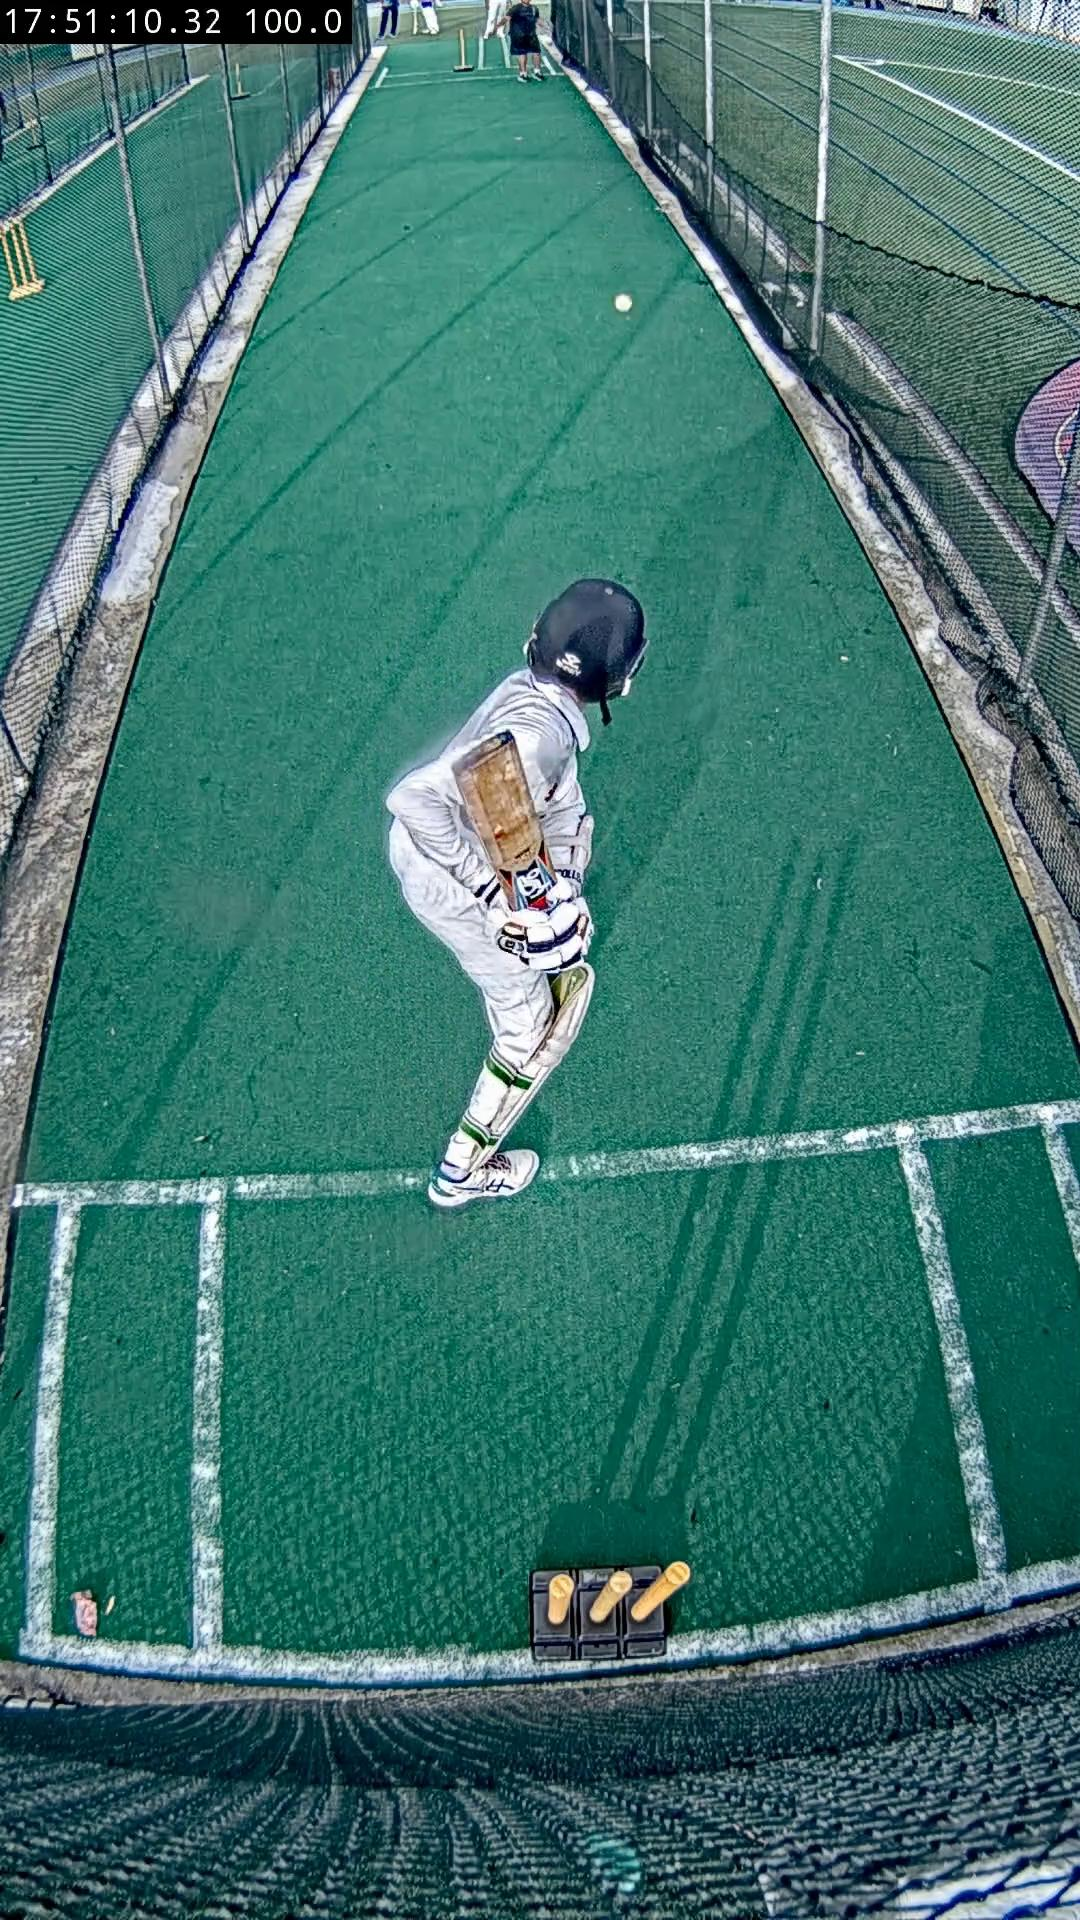ball: (615, 293, 634, 313)
bat: (454, 732, 555, 911)
gloves: (488, 893, 592, 972)
helmet: (525, 578, 645, 721)
pads: (492, 964, 596, 1139)
stumps: (529, 1564, 690, 1662)
